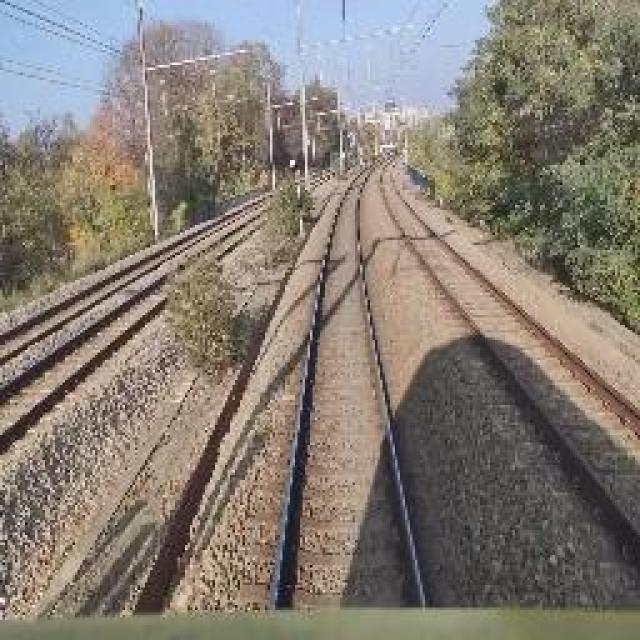rail: (242, 155, 449, 611)
